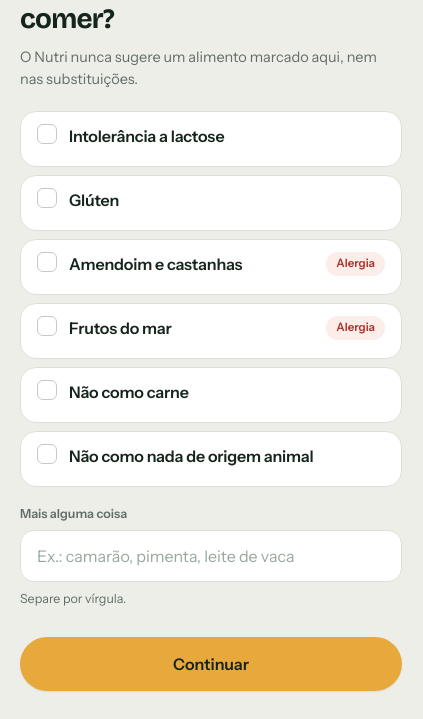
Test case: Etapa Restrições (S06) › recusa mais de 10 itens, sem enviar
The image size is (423, 719).
(page scrolled)
Type "a1, a2, a3, a4, a5, a6, a7, a8, a9, b1, b2" into the field labelled "Mais alguma coisa".
click(211, 556); type("a1, a2, a3, a4, a5, a6, a7, a8, a9, b1, b2")  # box [20,530,402,582]
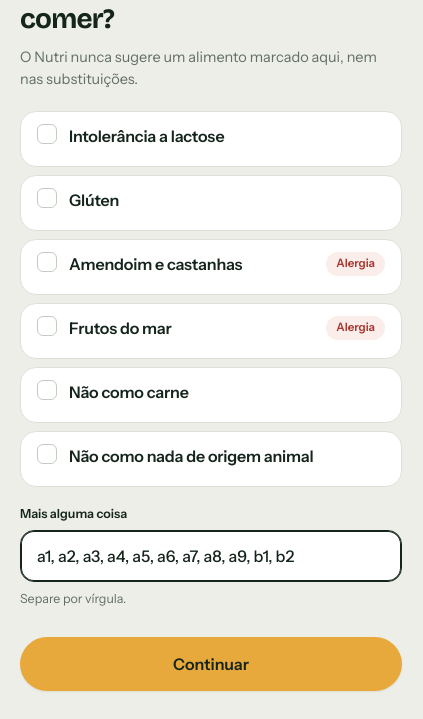
Click the button "Continuar".
click(211, 664)  # box [20,637,402,691]
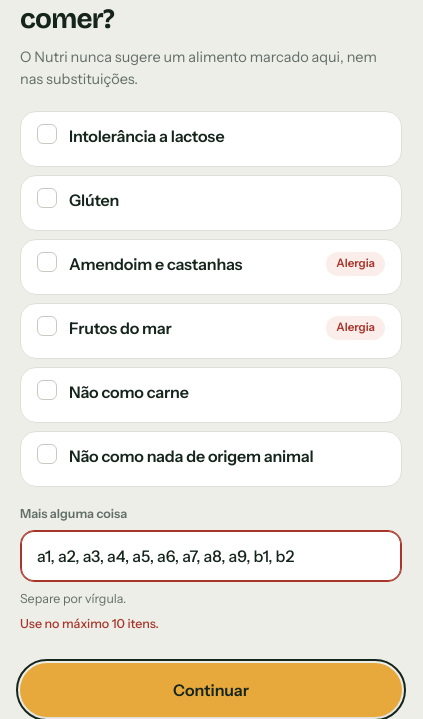
Result: the text "Use no máximo 10 itens." is shown at [20,616,159,631]
